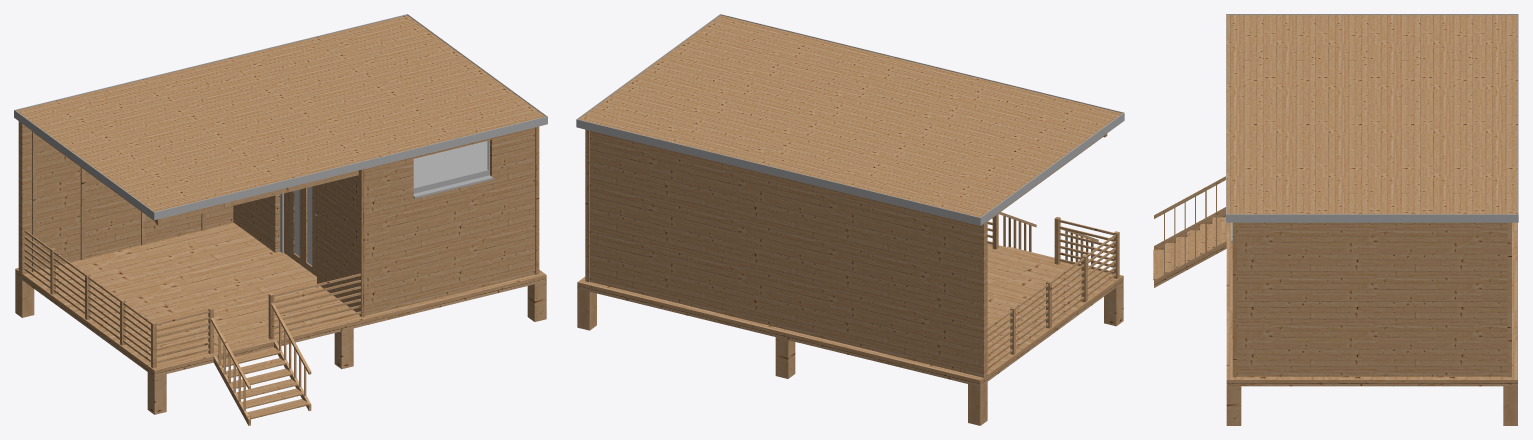
The picture shows the model from 3 angles, left to right: view 1: azimuth 30°, elevation 25°; view 2: azimuth 150°, elevation 25°; view 3: azimuth 270°, elevation 25°; orthographic projection. The views are drawn at different scales.
Visible parts, largest first — view 1: Ceiling, Building, Floor, Details, Fence_Front, Fence_Left, Cube, Stairs_left, Stairs_right, coll1_Stairs; view 2: Ceiling, Building, Floor, Fence_Left, Cube, Details, Fence_Front, Stairs_right; view 3: Ceiling, Building, Floor, Details, Stairs_right, Cube, Stairs_left, coll6_Stairs, coll5_Stairs.
Boxes of the visible parts, x1,y1,x2,y2 form: Ceiling: (14,14,547,220); Building: (18,121,534,315); Floor: (15,222,546,376); Details: (32,126,539,368); Fence_Front: (156,273,360,363); Fence_Left: (24,230,151,362); Cube: (15,275,546,414); Stairs_left: (211,317,251,425); Stairs_right: (271,303,311,410); coll1_Stairs: (247,399,309,419); Ceiling: (576,14,1124,225); Building: (589,130,987,377); Floor: (577,243,1123,386); Fence_Left: (987,234,1115,368); Cube: (577,282,1123,425); Details: (585,129,1119,354); Fence_Front: (987,218,1113,273); Stairs_right: (998,212,1036,251); Ceiling: (1226,14,1518,222); Building: (1231,222,1507,376); Floor: (1226,222,1517,386); Details: (1232,222,1511,377); Stairs_right: (1153,207,1226,287); Cube: (1226,386,1517,425); Stairs_left: (1154,176,1225,249); coll6_Stairs: (1212,217,1226,246); coll5_Stairs: (1200,224,1212,253).
Bounding box in the file's own units: 6.52 × 3.21 × 5.02.
4 materials, 1 textured.
